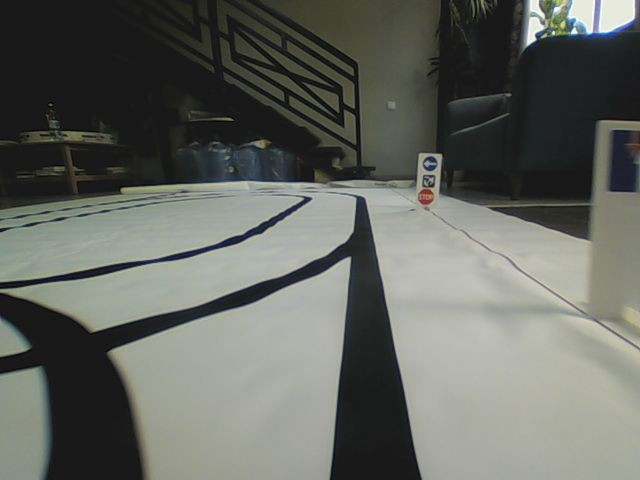Stop: (417, 189, 434, 206)
